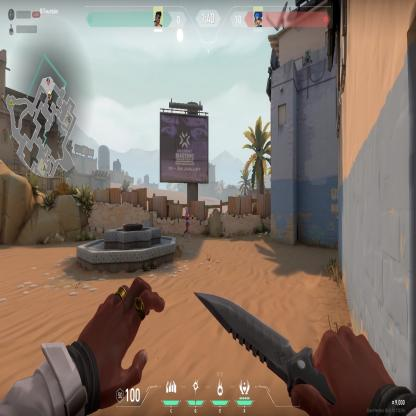enemy: (181, 206, 191, 241)
